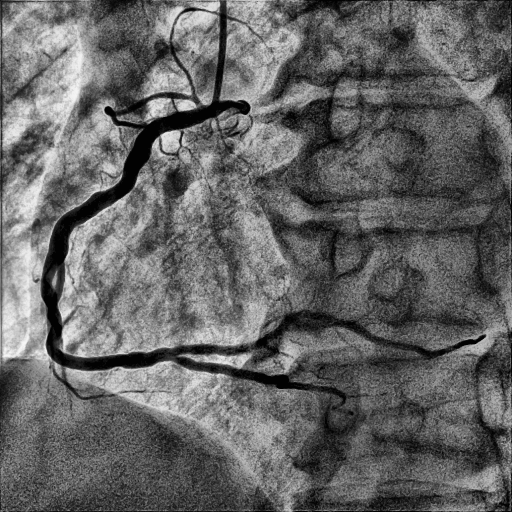pborca: (176, 310, 483, 358)
pda: (175, 357, 388, 398)
rca: (40, 104, 213, 372)
